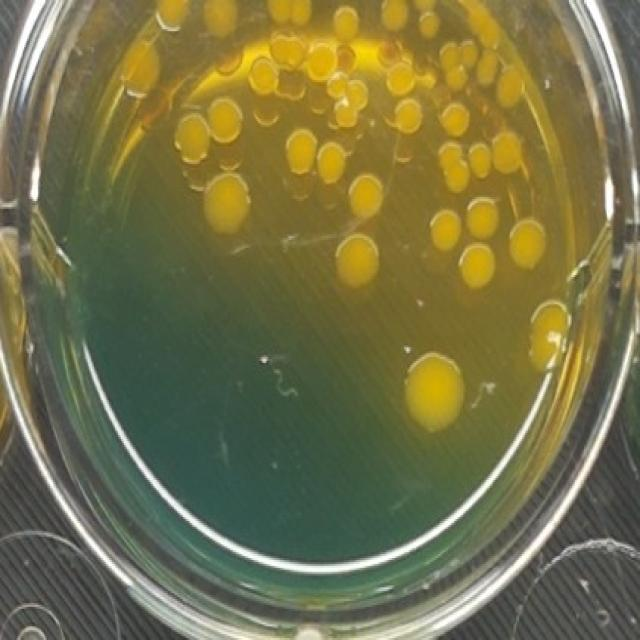vibrio: (401, 345, 468, 438), (521, 293, 574, 374), (326, 225, 386, 294), (202, 169, 254, 238), (117, 36, 163, 101), (506, 211, 551, 277), (453, 241, 500, 298), (323, 73, 370, 130), (171, 106, 214, 166), (345, 167, 388, 223), (424, 202, 466, 258), (433, 137, 472, 196), (462, 191, 503, 246), (206, 93, 245, 149), (282, 124, 320, 176), (490, 127, 526, 178), (314, 138, 350, 188), (244, 52, 282, 99), (494, 60, 528, 110), (202, 0, 242, 41), (438, 96, 472, 143), (390, 93, 425, 138), (305, 39, 338, 86), (330, 2, 363, 46), (466, 136, 495, 182), (385, 58, 415, 98), (378, 0, 410, 33), (416, 8, 443, 43)
